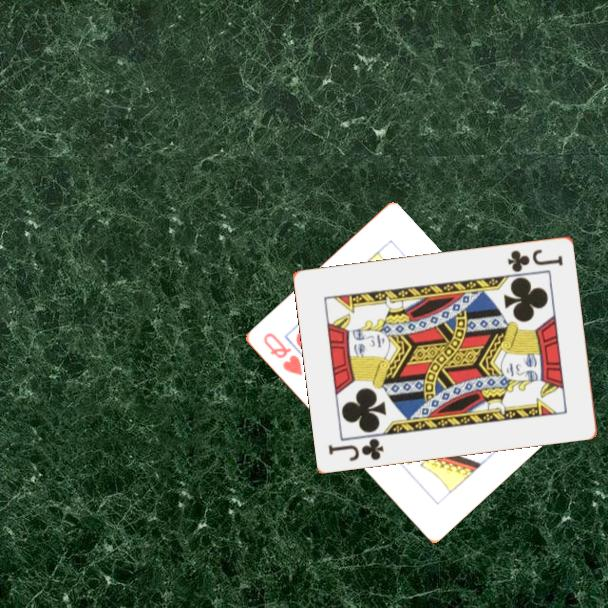c11: (325, 434, 387, 464), (504, 245, 566, 274)
h12: (259, 329, 305, 379)
